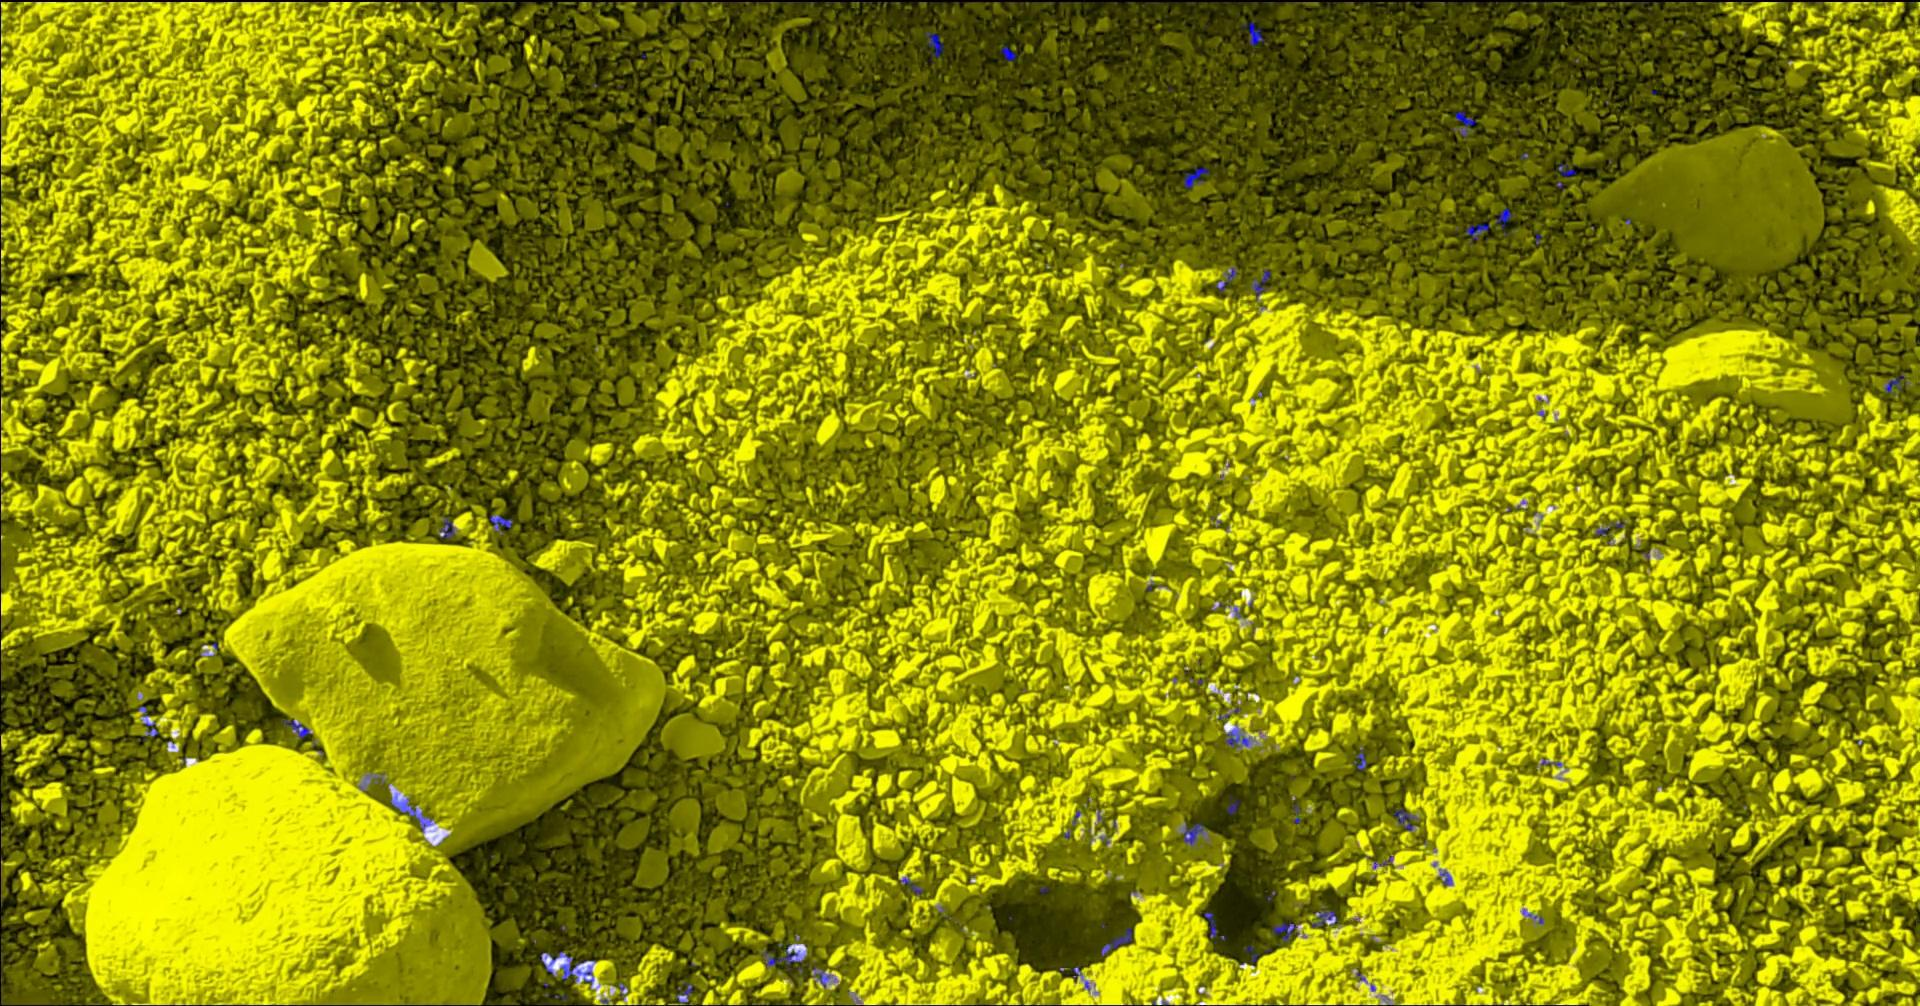ant: (390, 796, 430, 831), (762, 942, 803, 970), (560, 953, 593, 984), (1100, 927, 1131, 955), (1239, 22, 1265, 50), (1203, 911, 1225, 940), (1451, 111, 1476, 137), (1269, 920, 1298, 941), (1310, 904, 1337, 927), (1250, 269, 1270, 298), (281, 719, 310, 738), (1183, 166, 1209, 188), (1215, 267, 1237, 292), (538, 951, 563, 973), (924, 30, 943, 57), (1495, 206, 1511, 235), (1182, 823, 1204, 845), (1393, 809, 1416, 829), (1465, 224, 1490, 243), (811, 962, 829, 987), (489, 514, 512, 533), (899, 876, 923, 894), (676, 981, 693, 1005), (1595, 521, 1623, 535), (1884, 373, 1905, 392), (438, 516, 455, 539), (1225, 730, 1248, 747), (1352, 747, 1366, 768), (1556, 163, 1575, 177), (1001, 44, 1017, 60), (1227, 796, 1239, 813), (143, 721, 157, 735), (1293, 803, 1300, 823)
